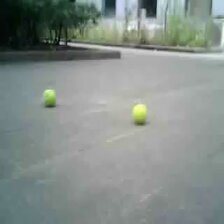tennis: (131, 103, 148, 122), (41, 90, 57, 106)
